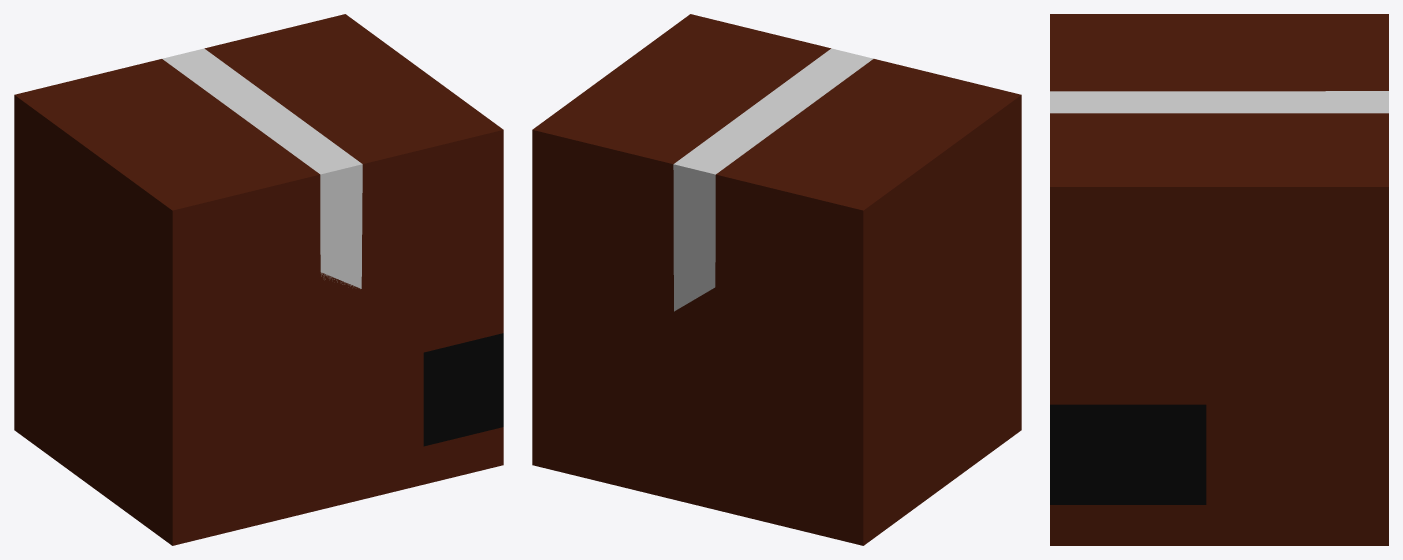
The picture shows the model from 3 angles, left to right: view 1: azimuth 30°, elevation 25°; view 2: azimuth 150°, elevation 25°; view 3: azimuth 270°, elevation 25°; orthographic projection. The views are drawn at different scales.
Visible parts, largest first — view 1: Box005; view 2: Box005; view 3: Box005.
Boxes of the visible parts, x1,y1,x2,y2 form: Box005: [14, 14, 503, 545]; Box005: [532, 14, 1021, 545]; Box005: [1050, 14, 1388, 545].
Size of the model in its own units: 32.79 by 31.73 by 27.13.
